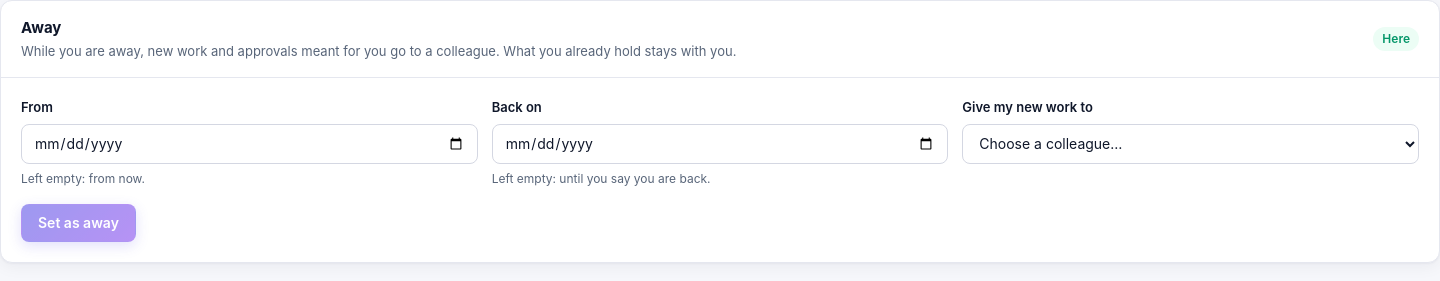
Test: saying I am away › offers my colleagues (not me, not people who have left) and needs one chosen
This screenshot has width=1440, height=281.
Expected: the button "Set as away" is disabled, 21,204 -> 136,242
Select "Sam" in the dropdown labelled "Give my new work to": (1191, 144) 962,124 -> 1419,164
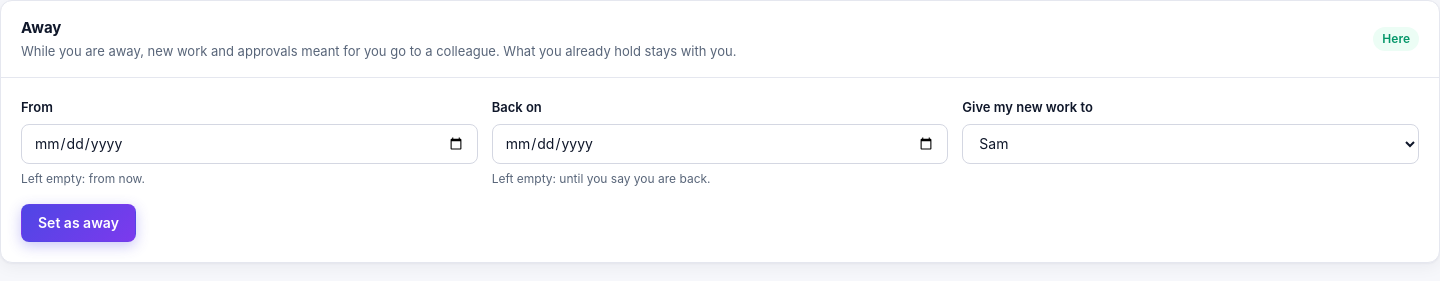
Expected: the button "Set as away" is enabled, 21,204 -> 136,242
